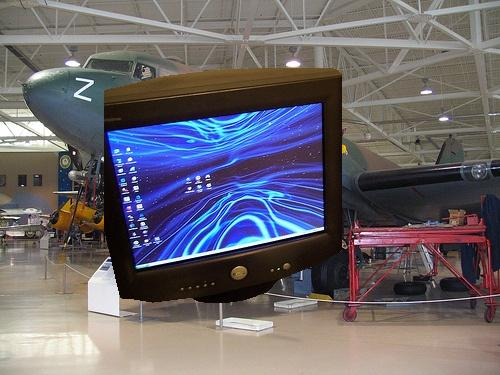tampered: (105, 69, 342, 303)
